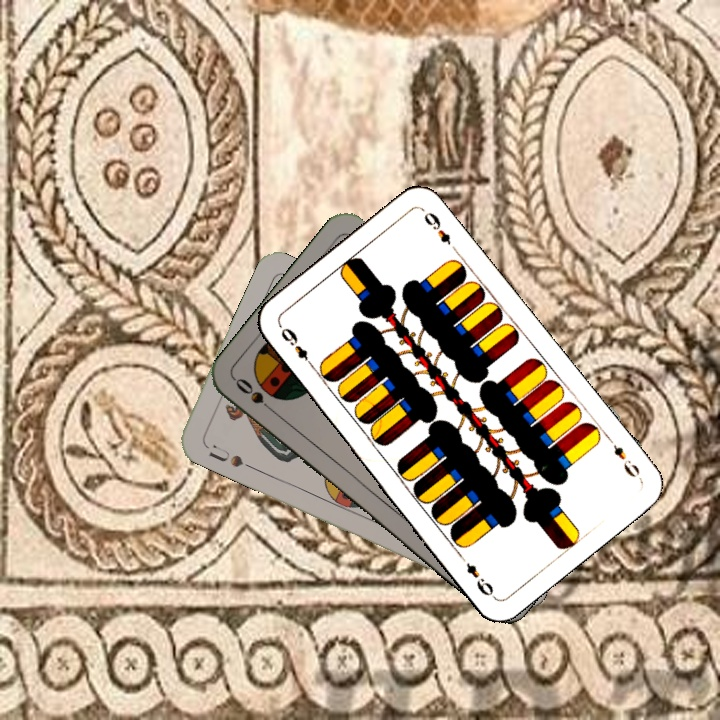E9: (276, 322, 318, 372), (602, 432, 644, 482)
SO: (231, 374, 280, 418)
SU: (205, 440, 257, 472)
